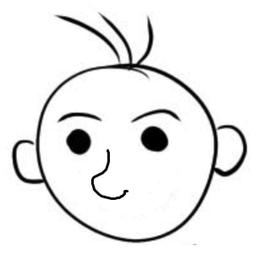ear: (209, 123, 249, 176), (10, 134, 44, 189)
eye: (136, 123, 173, 155), (67, 125, 94, 156)
eyebrow: (128, 107, 182, 123), (56, 112, 107, 124)
nose: (90, 148, 131, 201)
